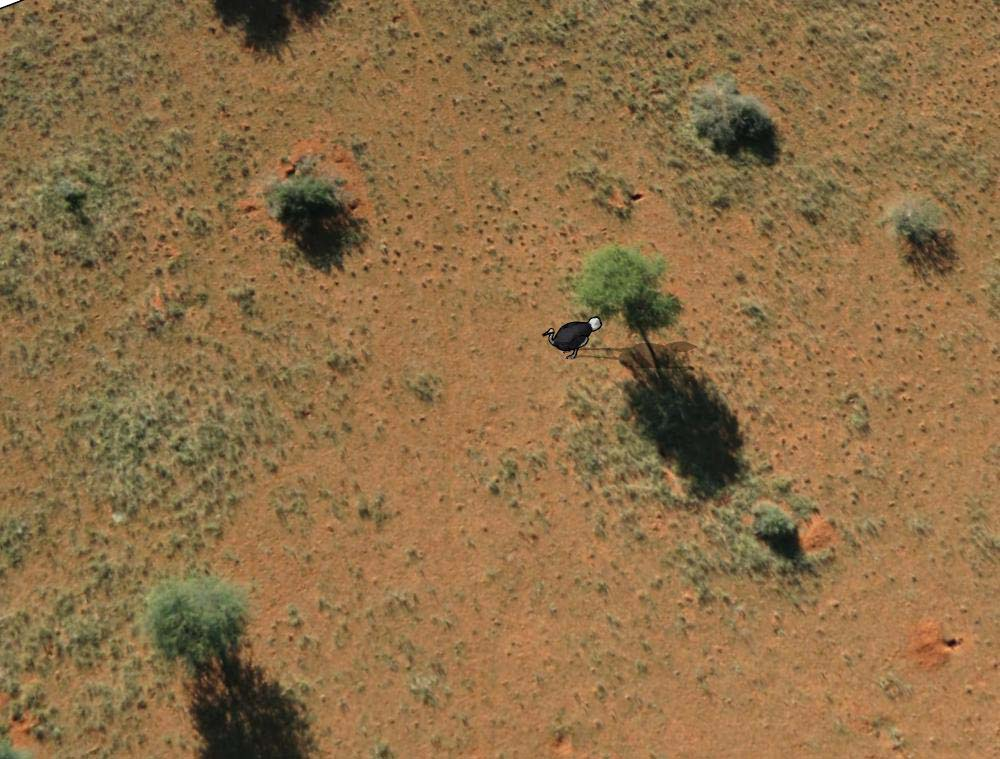ostrich: (544, 311, 607, 364)
